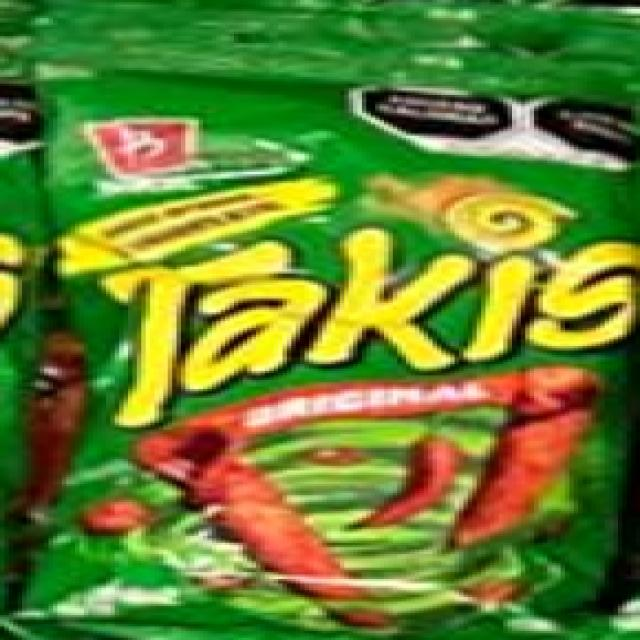takisOriginal: (41, 50, 632, 640)
